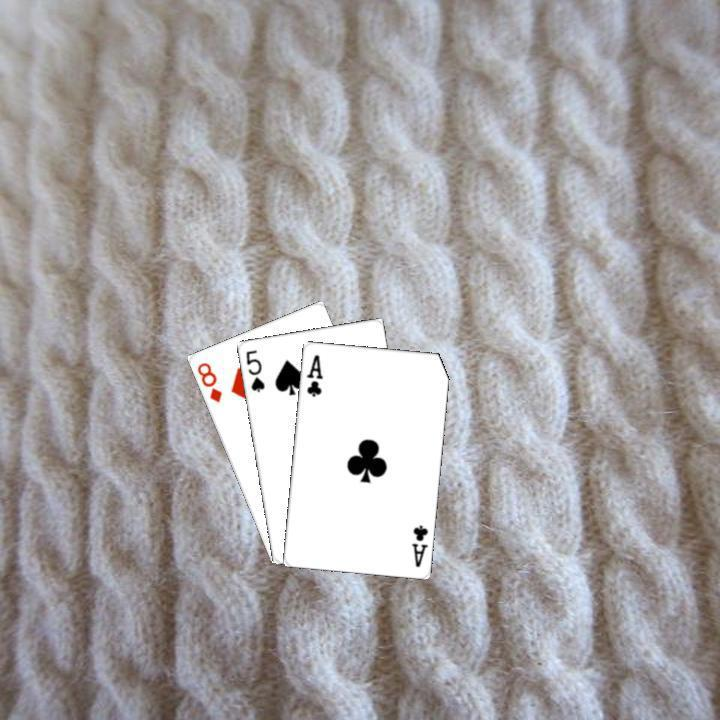5: (241, 345, 266, 394)
8: (192, 358, 224, 405)
A: (302, 350, 324, 398), (407, 520, 429, 568)
